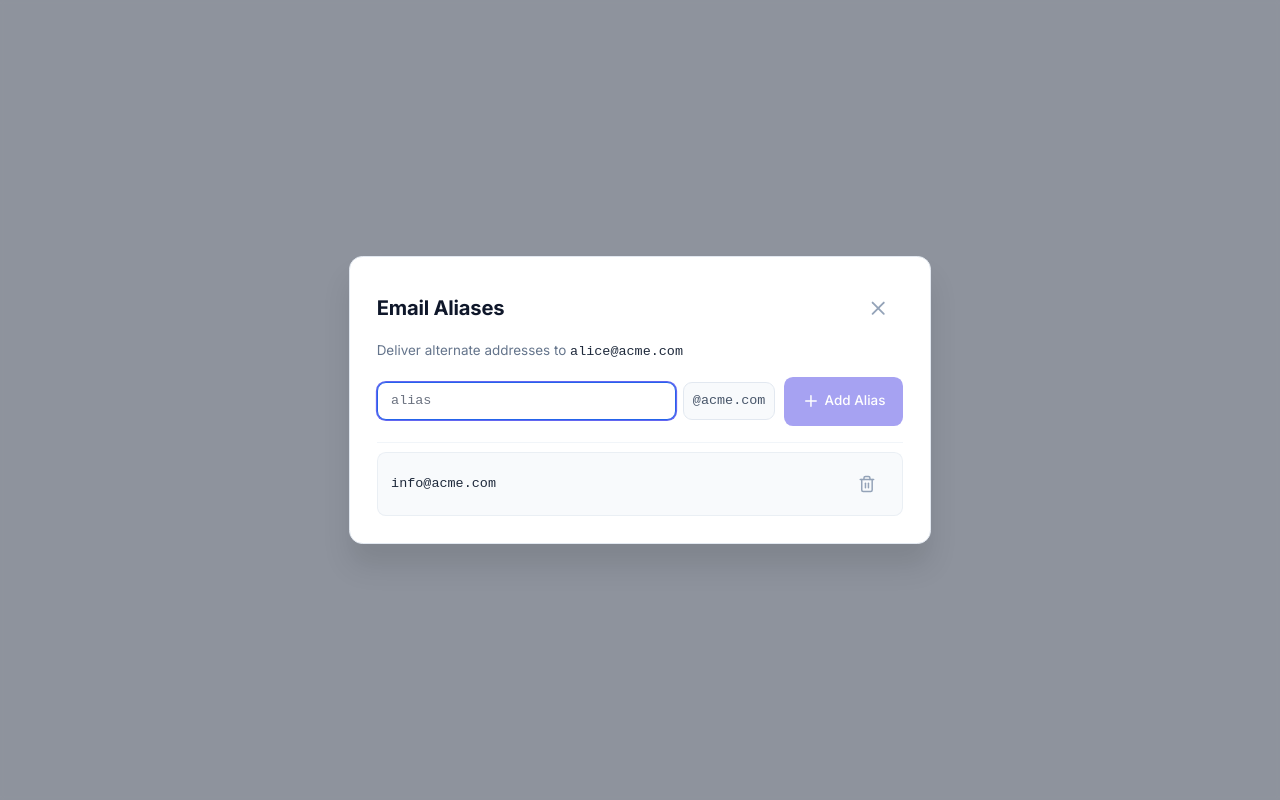
Scenario: ManageAliasesModal Component › deletes an alias when delete button is clicked
Expected: the text "info@acme.com" is shown, [391,475,496,493]
Click the button named "Delete alias info@acme.com" at point(866, 484), box [844,462,889,506]
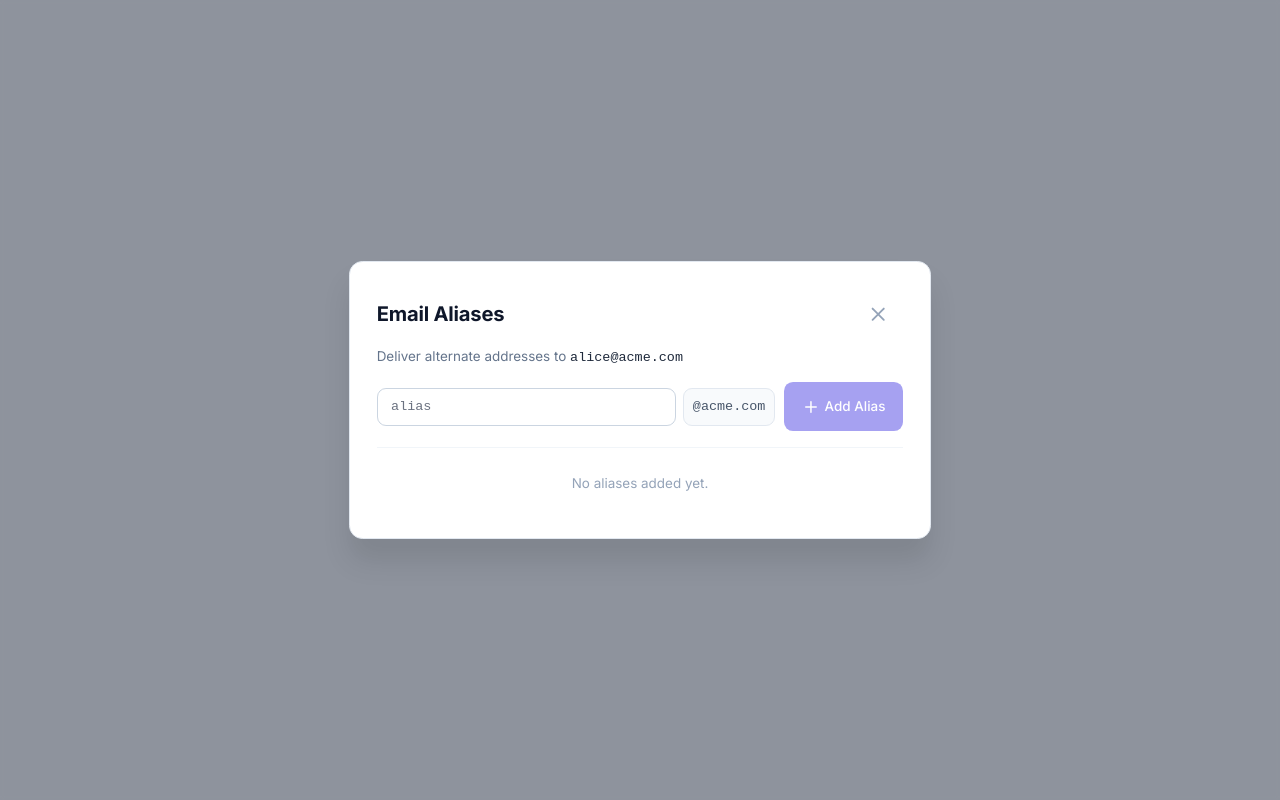
Result: the text "info@acme.com" is gone
